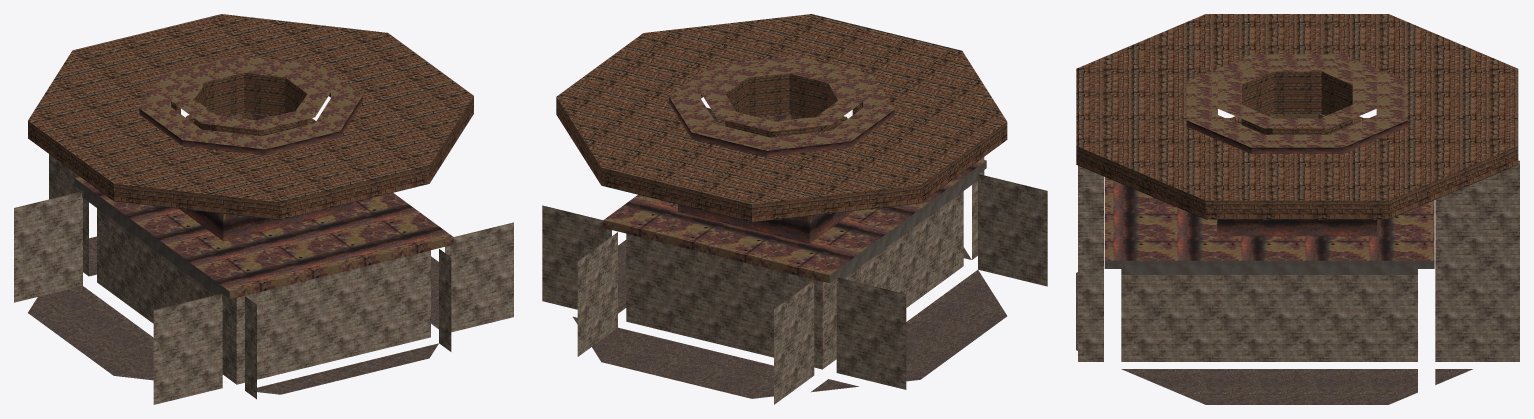
File: architecture_pit1.glb
The picture shows the model from 3 angles, left to right: view 1: azimuth 30°, elevation 25°; view 2: azimuth 150°, elevation 25°; view 3: azimuth 270°, elevation 25°; orthographic projection. The views are drawn at different scales.
Parts seen in each view (by area): view 1: pit1; view 2: pit1; view 3: pit1.
Boxes of the visible parts, bbox=[...] form: pit1: bbox=[14, 14, 513, 404]; pit1: bbox=[542, 14, 1047, 404]; pit1: bbox=[1076, 14, 1519, 404].
Size of the model in its own units: 32.04 by 17.31 by 32.14.
7 materials, 7 textured.
